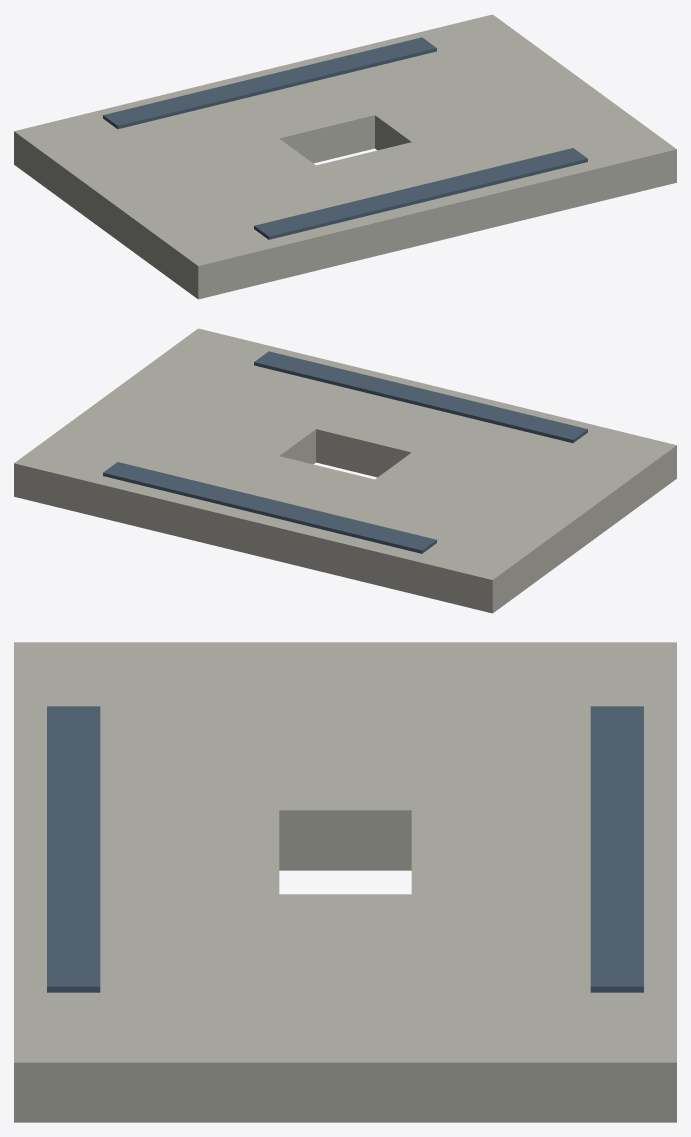
File: transfer.glb
3 views of the same model, one above another, from view 1: azimuth 30°, elevation 25°; view 2: azimuth 150°, elevation 25°; view 3: azimuth 270°, elevation 25° (orthographic). The views are drawn at different scales.
Visible parts, largest first — view 1: ConcretePanel, Rail_A, Rail_B; view 2: ConcretePanel, Rail_B, Rail_A; view 3: ConcretePanel, Rail_A, Rail_B.
Boxes of the visible parts, box(x1,y1,x2,y2) form: ConcretePanel: box(14, 14, 676, 299); Rail_A: box(254, 148, 587, 239); Rail_B: box(103, 37, 436, 128); ConcretePanel: box(14, 328, 676, 613); Rail_B: box(103, 462, 436, 553); Rail_A: box(254, 351, 587, 442); ConcretePanel: box(14, 642, 676, 1122); Rail_A: box(47, 706, 100, 992); Rail_B: box(590, 706, 643, 992).
Size of the model in its own units: 1.5 by 0.11 by 1.
